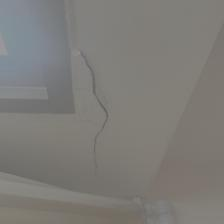Medium: (79, 53, 119, 151)
